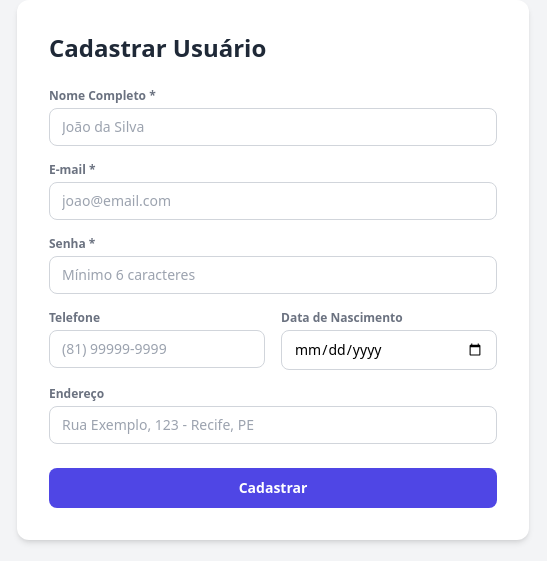
Test: FormularioCadastro › desabilita o botão durante o envio
Type "Jamylle" into the field with placeholder "João da Silva". click: coordinates (273, 127)
box: [49,108,497,146]
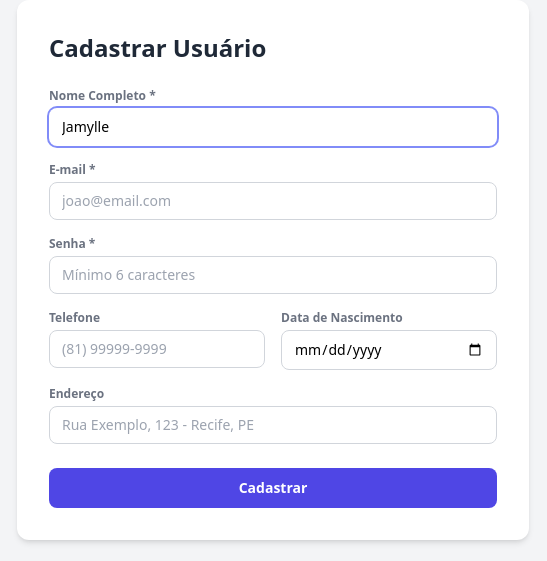
Type "j@j.com" into the field with placeholder "joao@email.com". click: coordinates (273, 201)
box: [49,182,497,220]
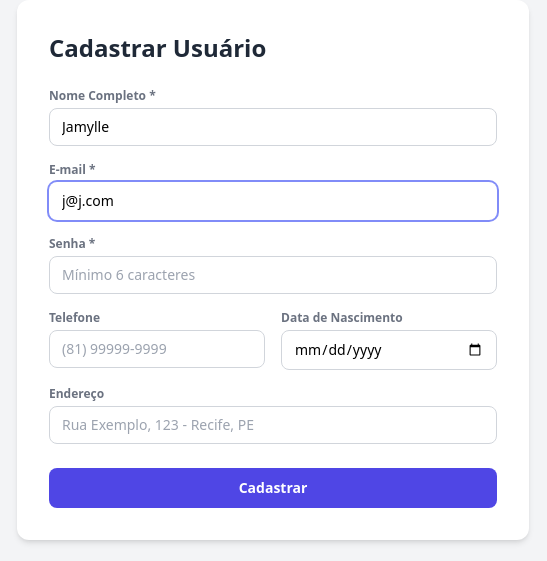
Type "123456" into the password field with placeholder "Mínimo 6 caracteres". click: coordinates (273, 275)
box: [49,256,497,294]
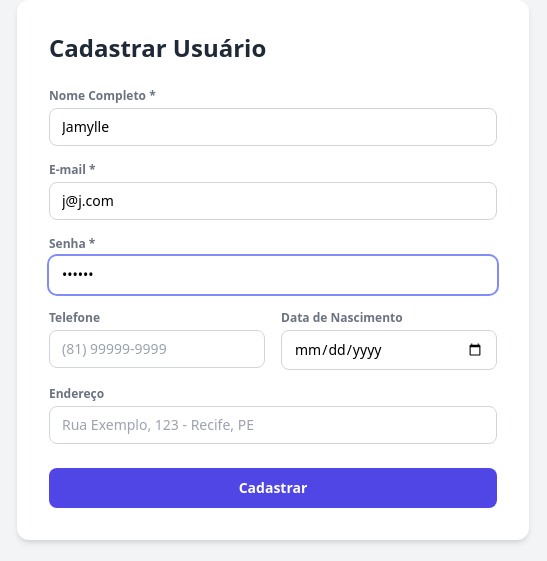
Click the button "Cadastrar". click: coordinates (273, 488)
box: [49,468,497,508]
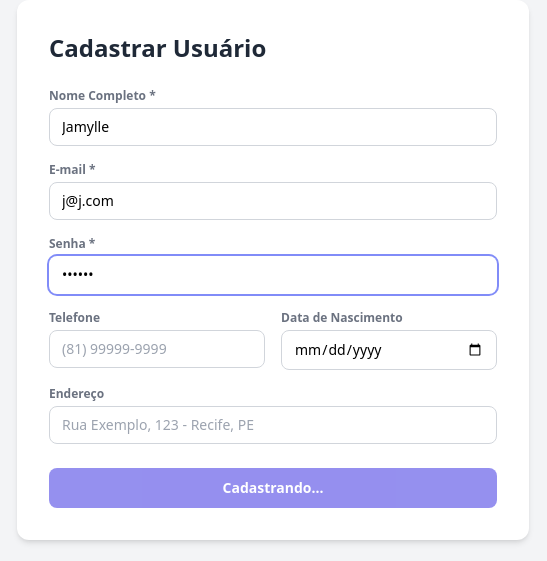
Expected: the button "Cadastrando..." is disabled, [49,468,497,508]
